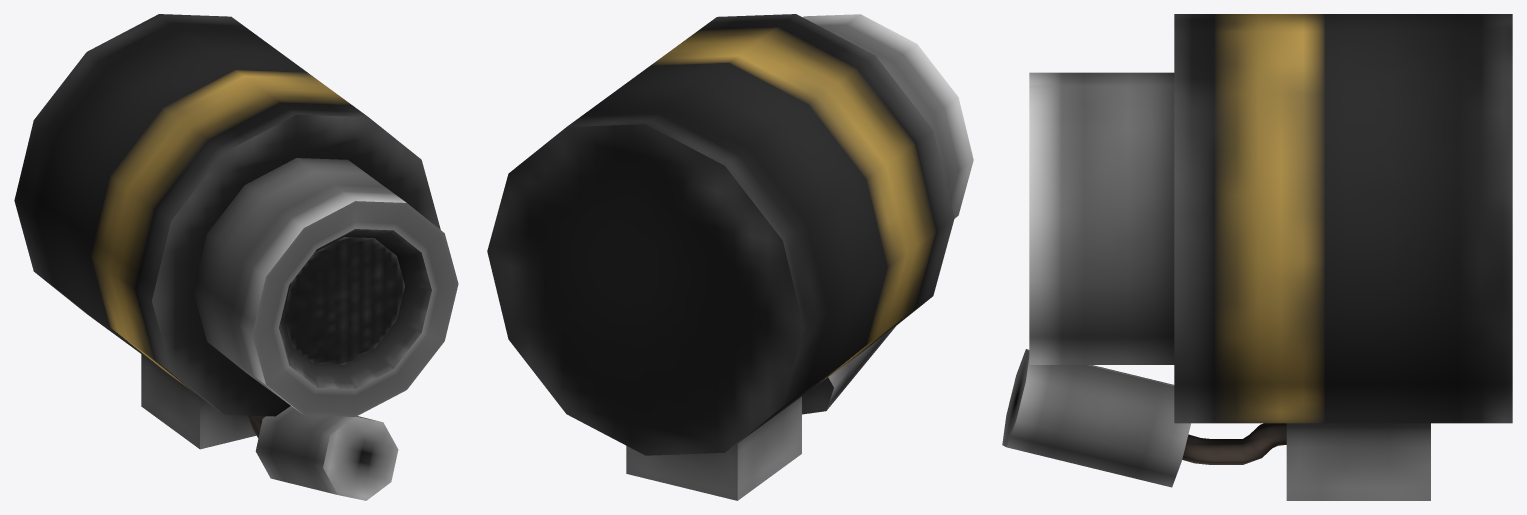
The model's file is bluedog_ERCS_1Way.fbx.
3 renders of one model, left to right at view 1: azimuth 30°, elevation 25°; view 2: azimuth 150°, elevation 25°; view 3: azimuth 270°, elevation 25°, orthographic. The views are drawn at different scales.
Visible parts, largest first — view 1: polySurface28, polySurface26; view 2: polySurface28; view 3: polySurface28, polySurface26.
Part boxes in pixels (x1=…): polySurface28: x1=14, y1=14, x2=458, y2=494; polySurface26: x1=279, y1=229, x2=431, y2=500; polySurface28: x1=487, y1=14, x2=973, y2=500; polySurface28: x1=1006, y1=14, x2=1512, y2=500; polySurface26: x1=1002, y1=349, x2=1029, y2=446.
Size of the model in its own units: 0.0616 by 0.0748 by 0.0765.
Materials: 1 (1 with a texture image).
